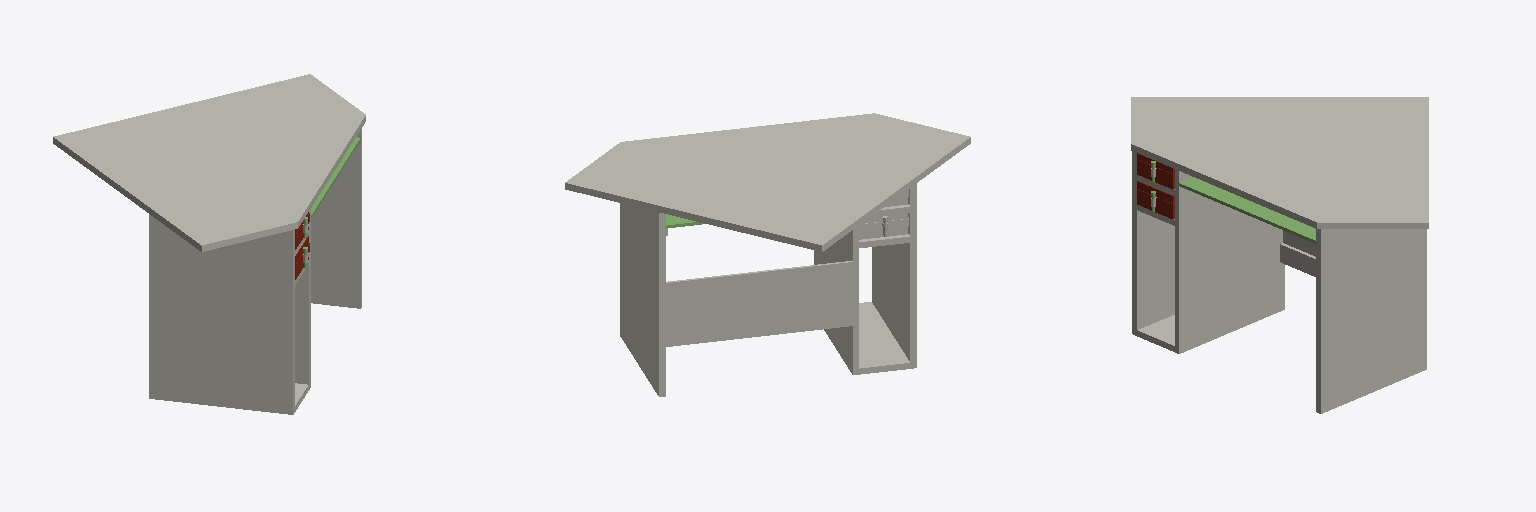
Rendered from desk1.obj.
3 views of the same model, side by side, from view 1: azimuth 30°, elevation 25°; view 2: azimuth 150°, elevation 25°; view 3: azimuth 270°, elevation 25° (orthographic).
Visible parts, largest first — view 1: Shape05.002, Shape05.001; view 2: Shape05.002; view 3: Shape05.002, Shape05.001, Shape05.
Part boxes in pixels (left/top/right/bottom): Shape05.002: left=53, top=74, right=365, bottom=414; Shape05.001: left=303, top=137, right=360, bottom=267; Shape05.002: left=565, top=113, right=970, bottom=396; Shape05.002: left=1131, top=97, right=1428, bottom=413; Shape05.001: left=1151, top=161, right=1315, bottom=243; Shape05: left=1137, top=153, right=1174, bottom=219.
Bounding box in the file's own units: 9.6 × 6.86 × 9.6.